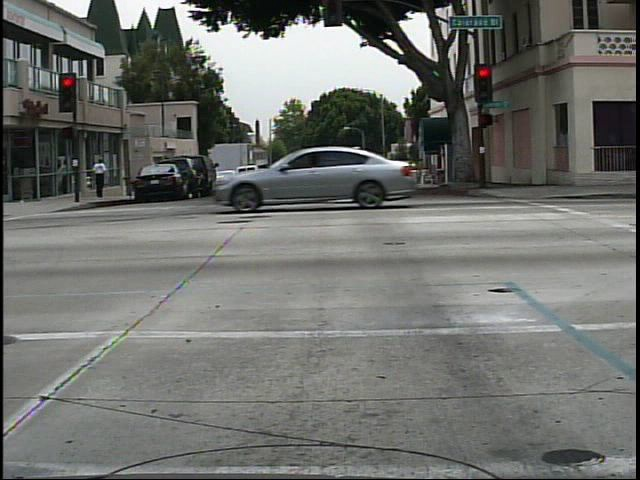person: (465, 142, 495, 195), (86, 151, 114, 203)
